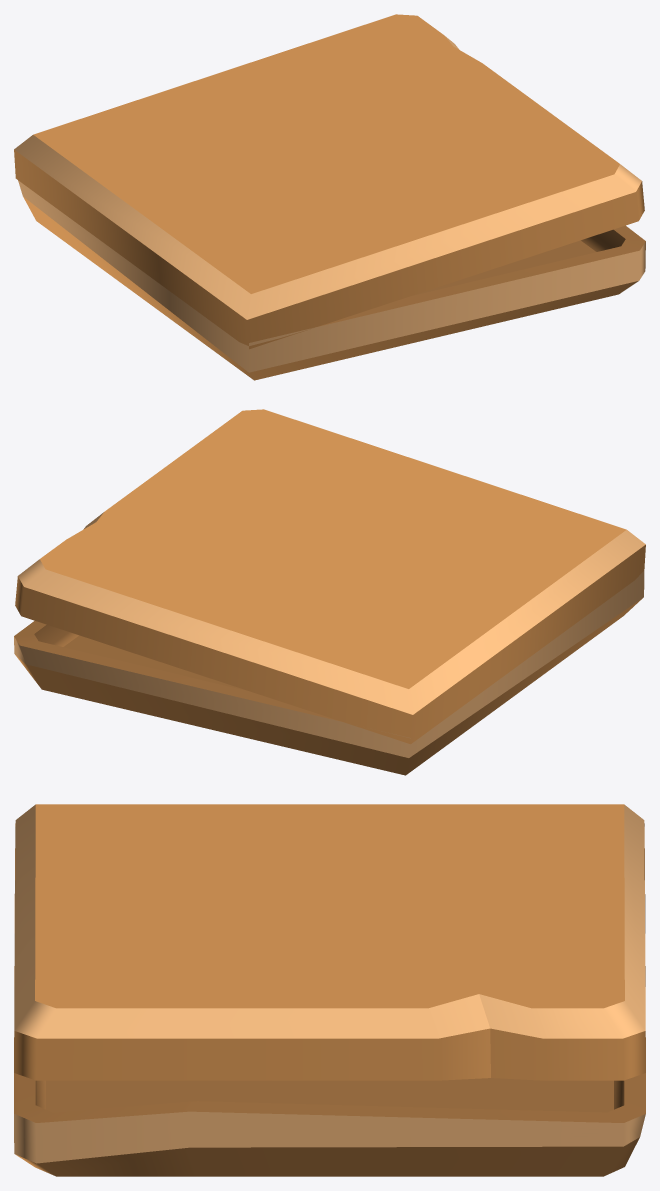
File: pizzabox.fbx
3 views of the same model, one above another, from view 1: azimuth 30°, elevation 25°; view 2: azimuth 150°, elevation 25°; view 3: azimuth 270°, elevation 25° (orthographic). The views are drawn at different scales.
Visible parts, largest first — view 1: pizzabox; view 2: pizzabox; view 3: pizzabox.
Boxes of the visible parts, x1,y1,x2,y2 form: pizzabox: [14, 14, 645, 380]; pizzabox: [14, 409, 645, 775]; pizzabox: [14, 804, 645, 1176].
Size of the model in its own units: 71.47 by 21.51 by 71.27.
Materials: 1 (1 with a texture image).
